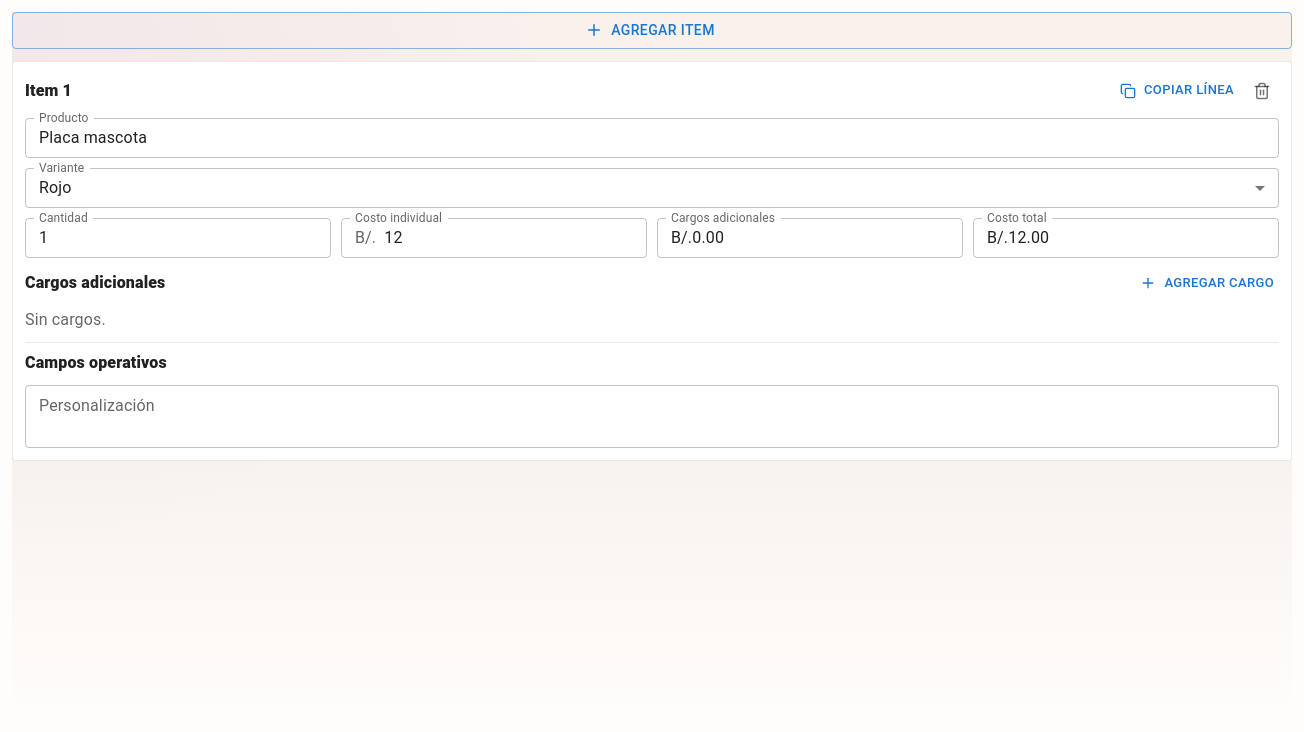
OrderItemsEditor › shows active variants and updates snapshots and price when variant changes
Check: the field labelled "Costo individual" holds "12", box x1=384 y1=218 x2=647 y2=258
Press the mouse on the dropdown named "Variante" at point(55, 188), box x1=39 y1=178 x2=72 y2=197
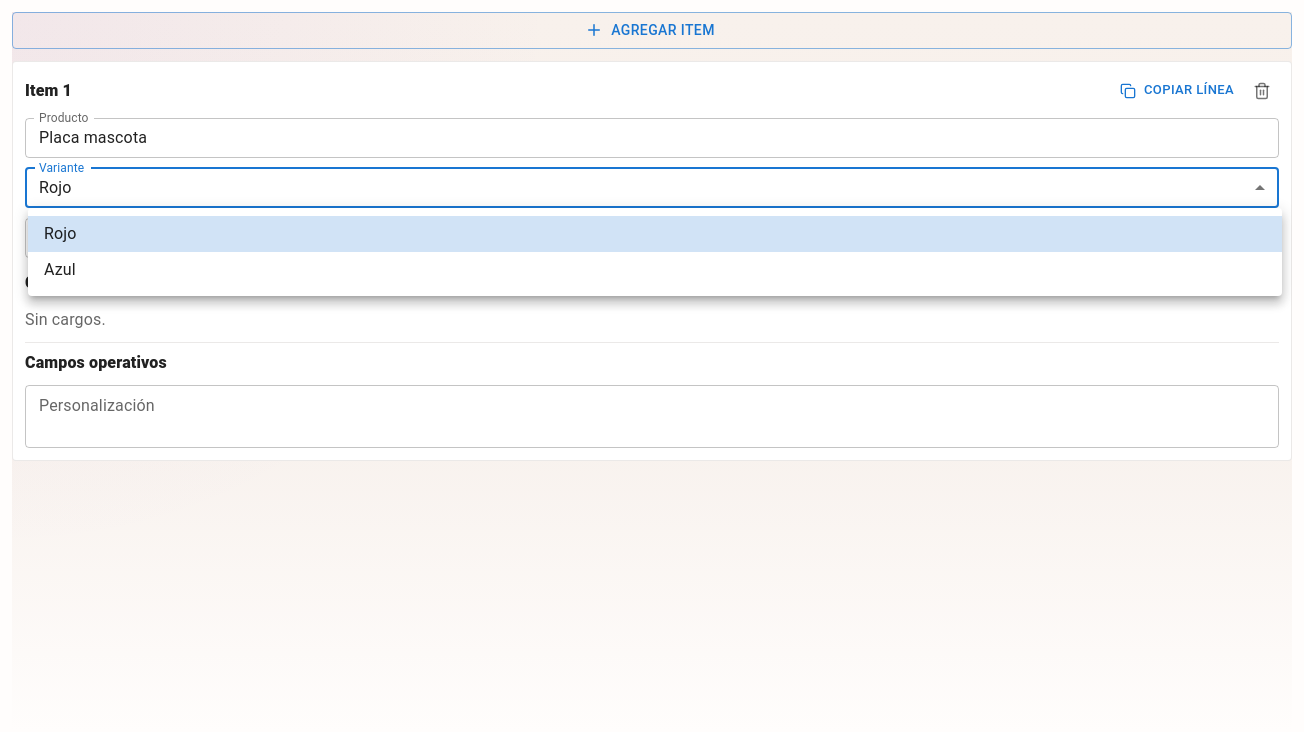
Click the option "Azul". click: point(60, 270)
box: x1=44 y1=260 x2=76 y2=279
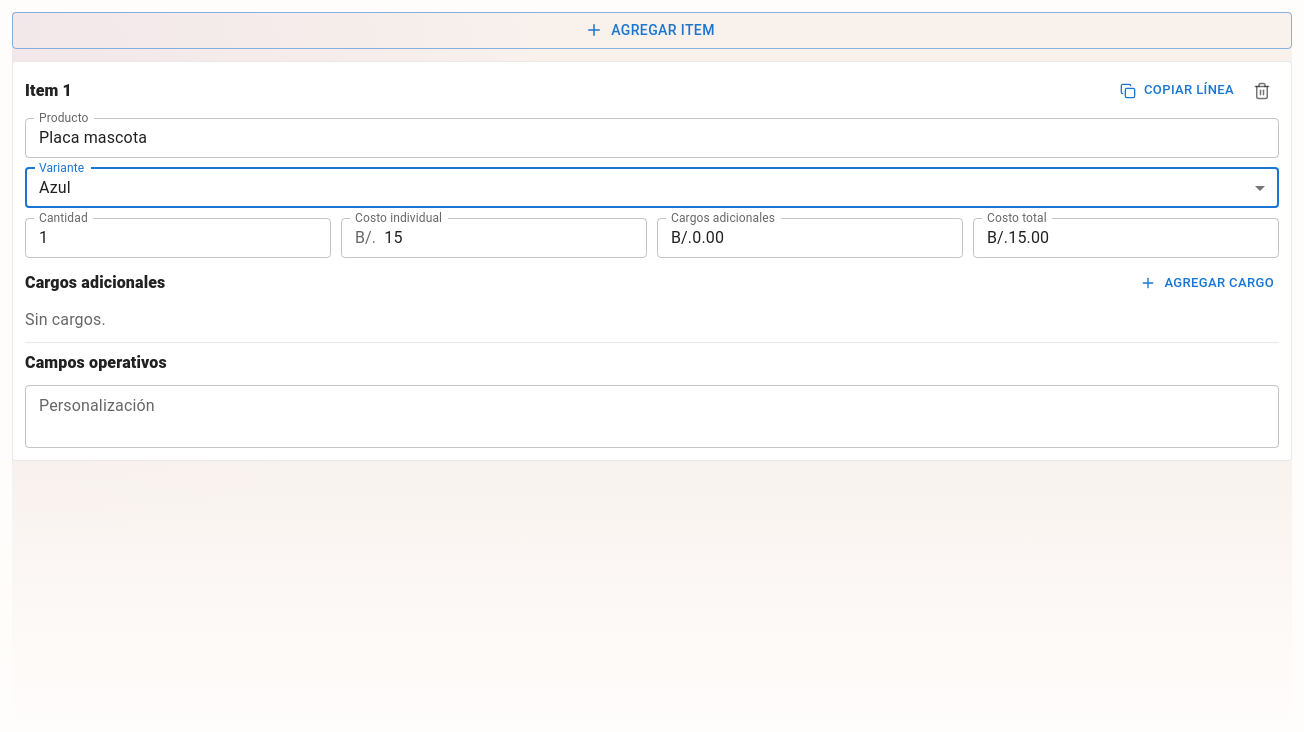
Check: the field labelled "Costo individual" holds "15", box x1=384 y1=218 x2=647 y2=258
